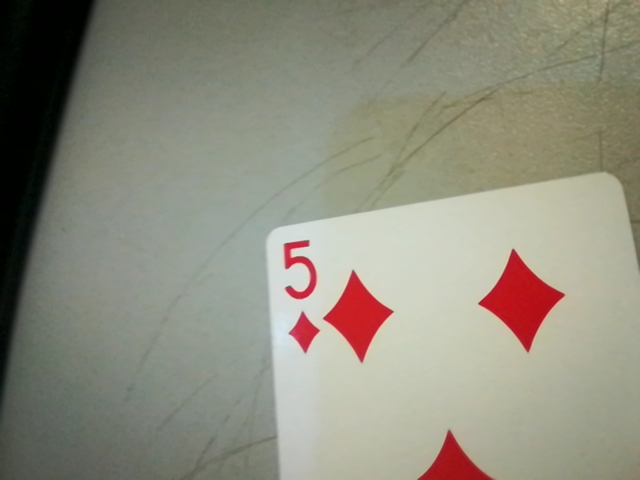fk 5: (266, 230, 327, 359)
